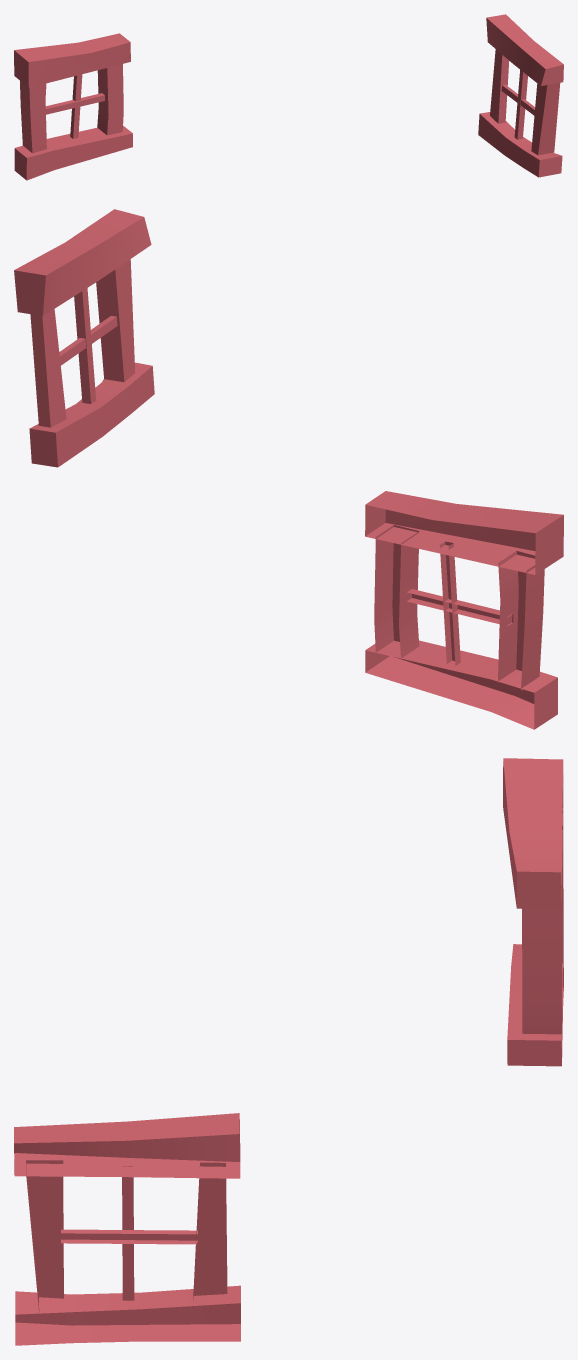
File: windows_2.fbx
3 views of the same model, one above another, from view 1: azimuth 30°, elevation 25°; view 2: azimuth 150°, elevation 25°; view 3: azimuth 270°, elevation 25° (orthographic). The views are drawn at different scales.
Visible parts, largest first — view 1: windows_2; view 2: windows_2; view 3: windows_2.
Boxes of the visible parts, x1,y1,x2,y2 form: windows_2: [14, 14, 563, 180]; windows_2: [14, 209, 563, 729]; windows_2: [14, 758, 563, 1345].
Size of the model in its own units: 315 by 90.1 by 196.
